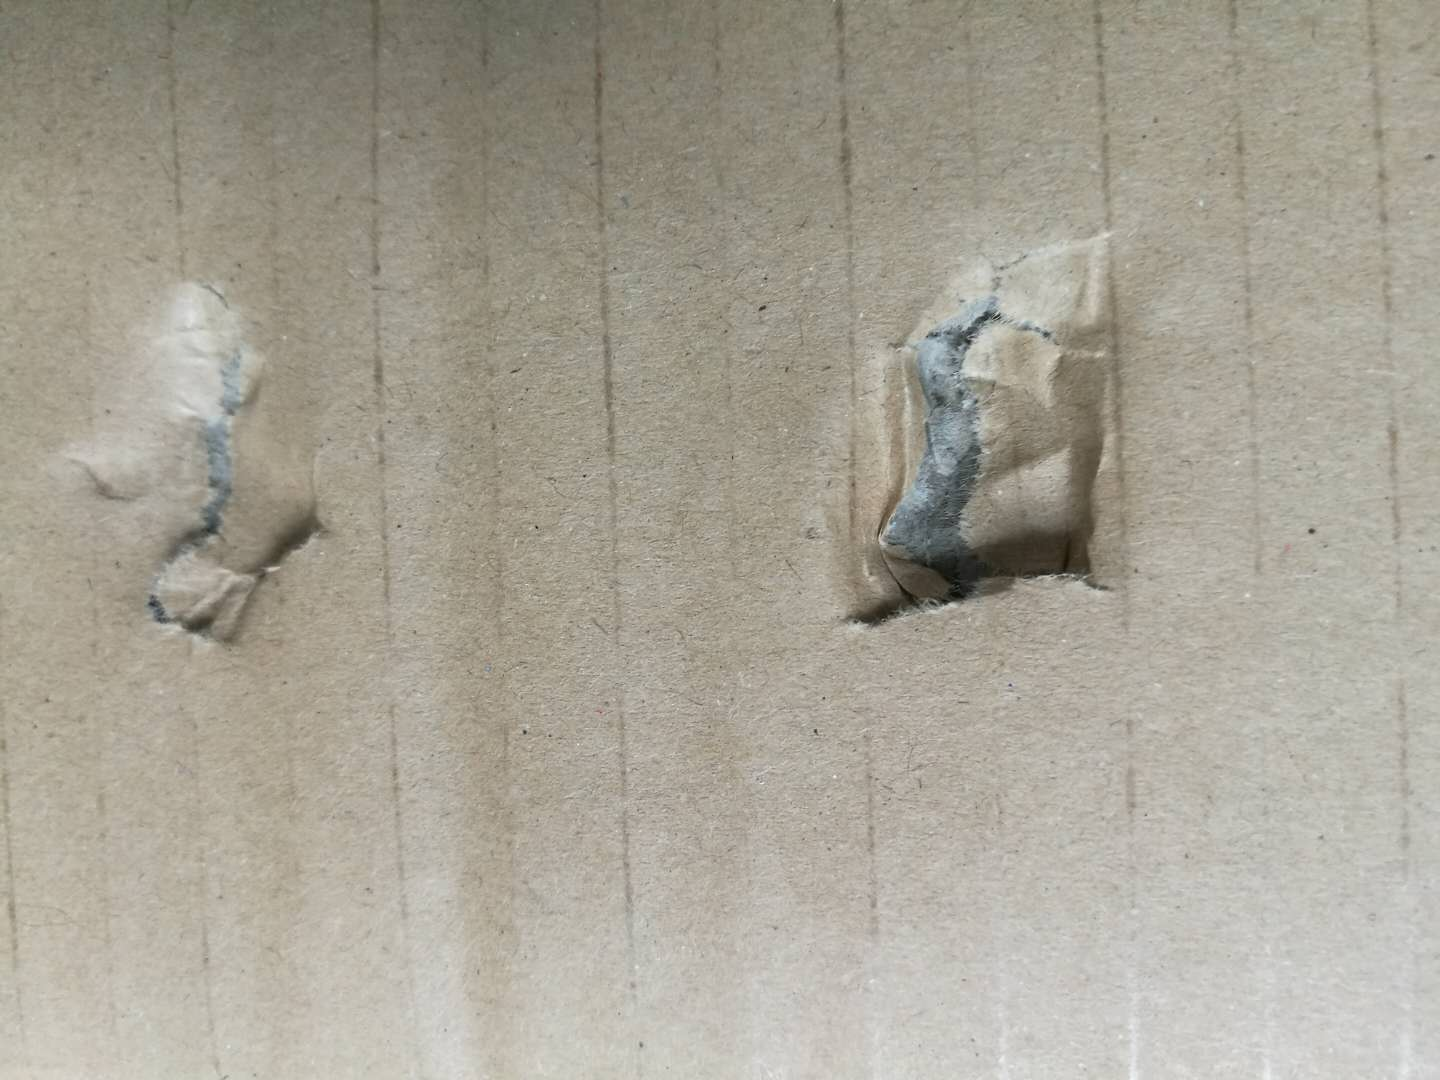defect: (793, 209, 1174, 695), (33, 246, 383, 702)
